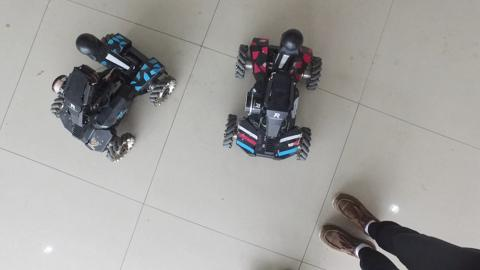chariot: (42, 23, 176, 165), (224, 23, 324, 167)
